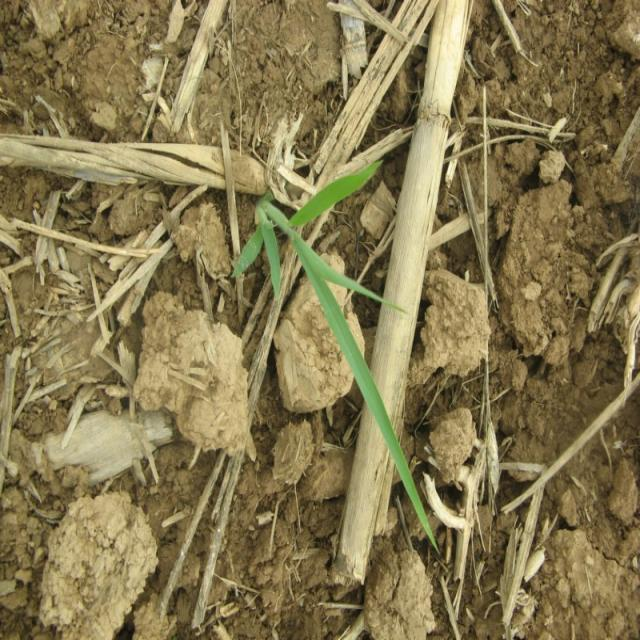bg: (235, 160, 441, 554)
